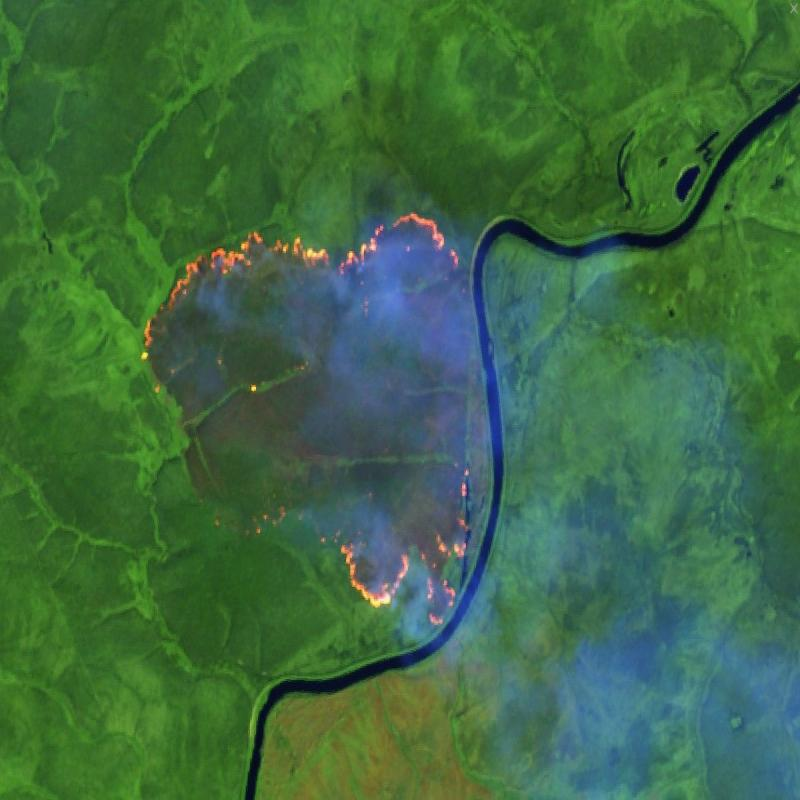fire: (140, 204, 477, 644)
